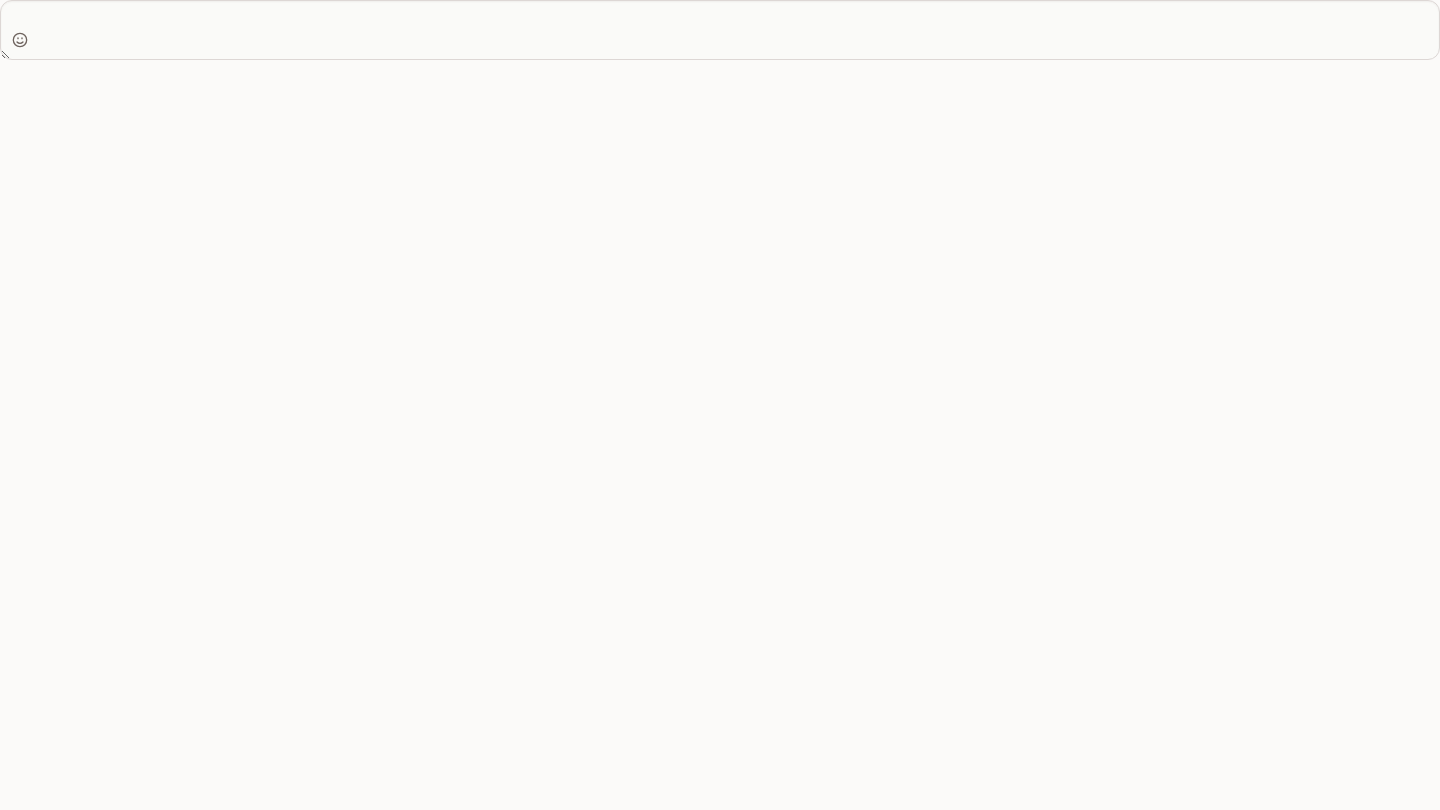
Test case: inside EmojiProvider › search filters by name / fallback / pack
Click the button with test id "emoji-picker-trigger" at (20, 40), box [6, 26, 34, 54]
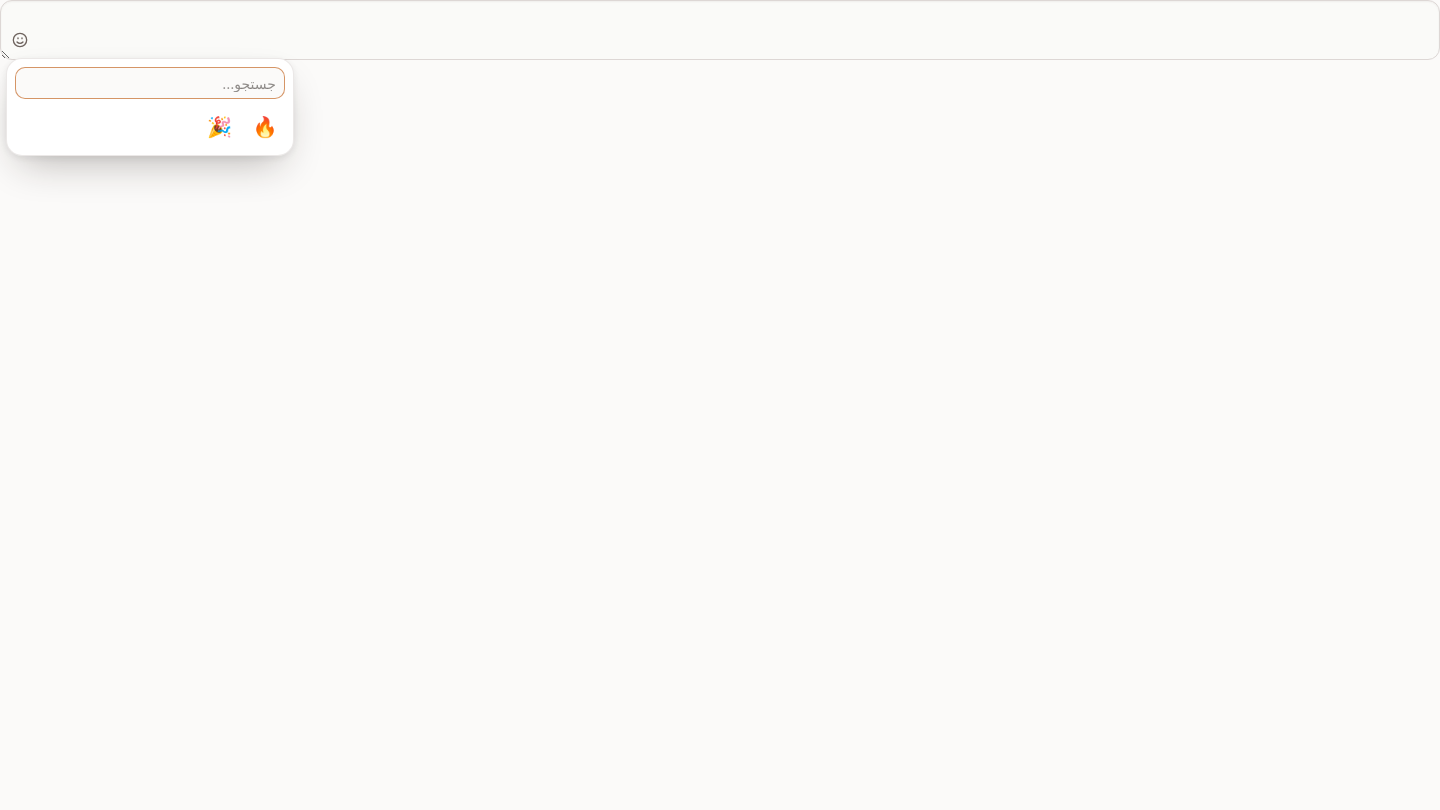
Type "party" into the field with placeholder "جستجو…" at (150, 83), box [15, 67, 285, 99]
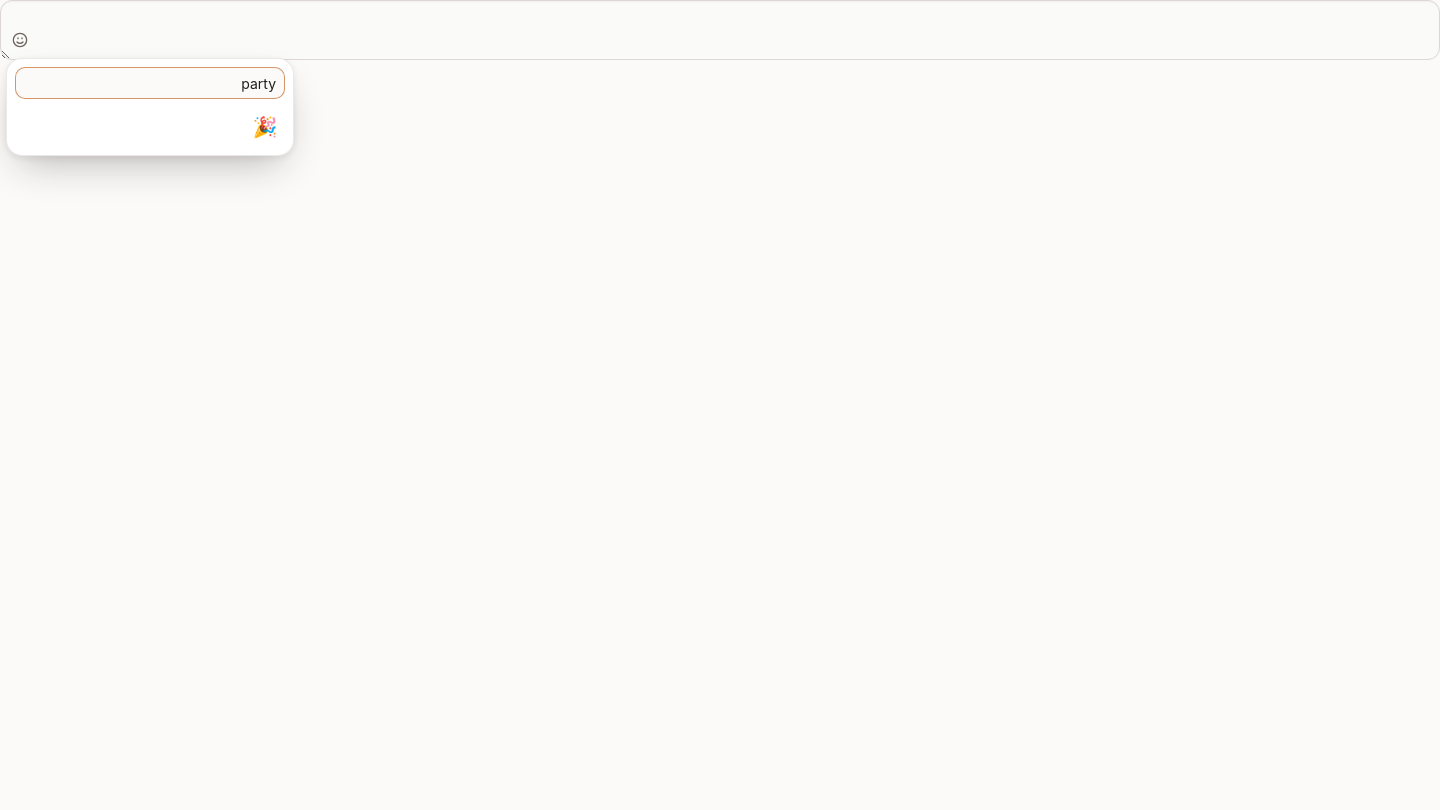
Check: the options read "🎉", in this order, box [245, 107, 285, 147]
